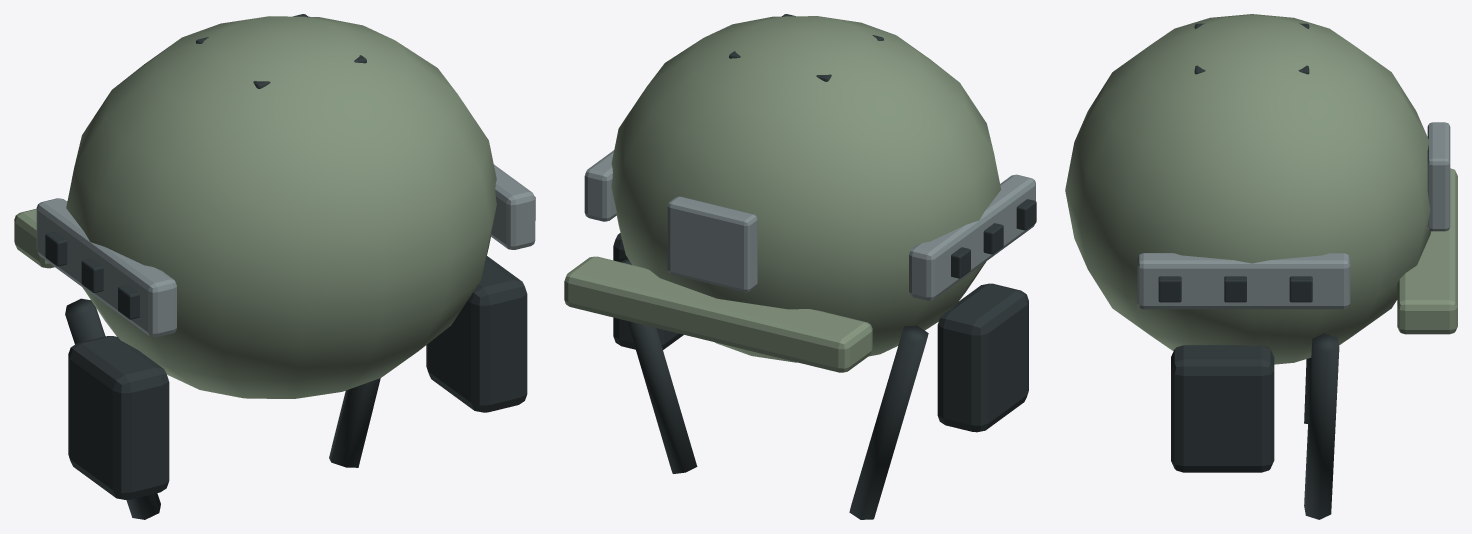
Rendered from helmet_moss_2c.glb.
3 renders of one model, left to right at view 1: azimuth 30°, elevation 25°; view 2: azimuth 150°, elevation 25°; view 3: azimuth 270°, elevation 25°, orthographic. The views are drawn at different scales.
Parts seen in each view (by area): view 1: helmet_moss_2c; view 2: helmet_moss_2c; view 3: helmet_moss_2c.
Boxes of the visible parts, left/top/right/bottom form: helmet_moss_2c: left=14, top=14, right=535, bottom=519; helmet_moss_2c: left=564, top=14, right=1036, bottom=519; helmet_moss_2c: left=1065, top=14, right=1457, bottom=519.
Bounding box in the file's own units: 0.263 × 0.2936 × 0.2395.
